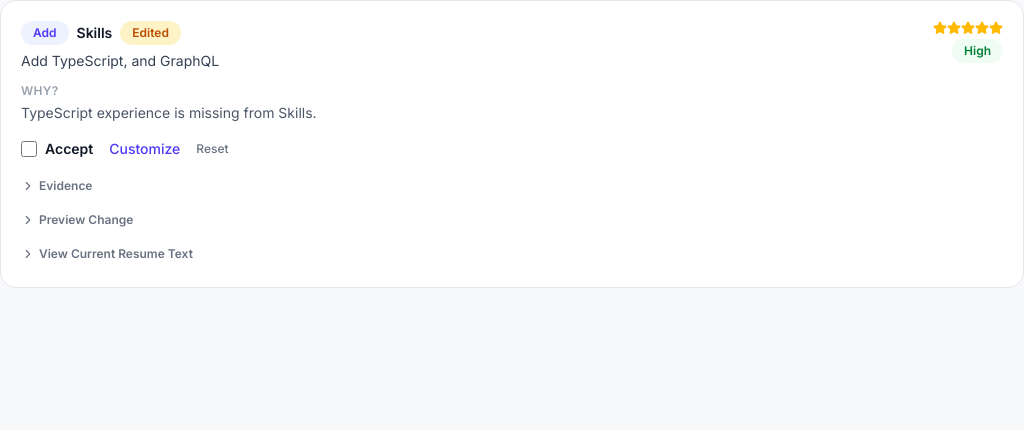
Test: TailoringSuggestionCard: Preview Change comparator › previews the edited text, not the original suggested text, once the user has customized it
The image size is (1024, 430).
Step 1. Click the button "Preview Change" → point(77, 220), box [21, 212, 133, 228]
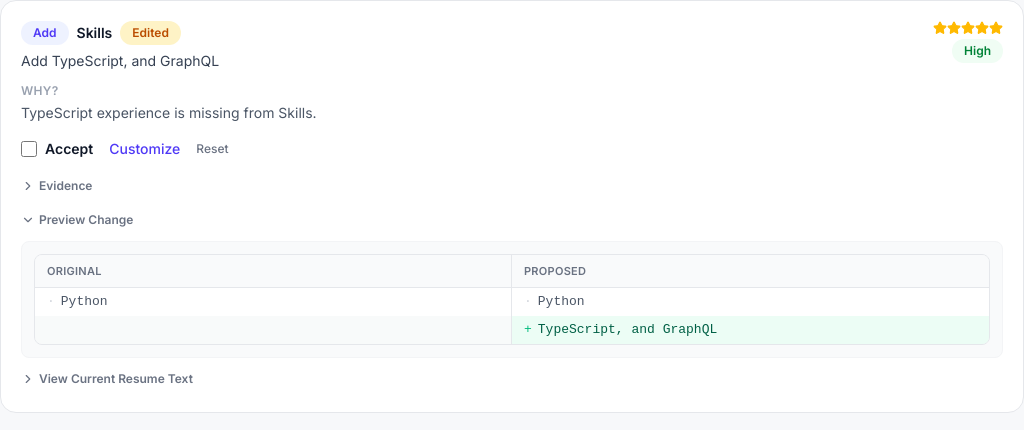
Expected: the text "TypeScript, and GraphQL" is shown, [538, 322, 717, 337]
